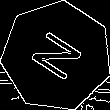N_SE: (24, 26, 89, 87)
